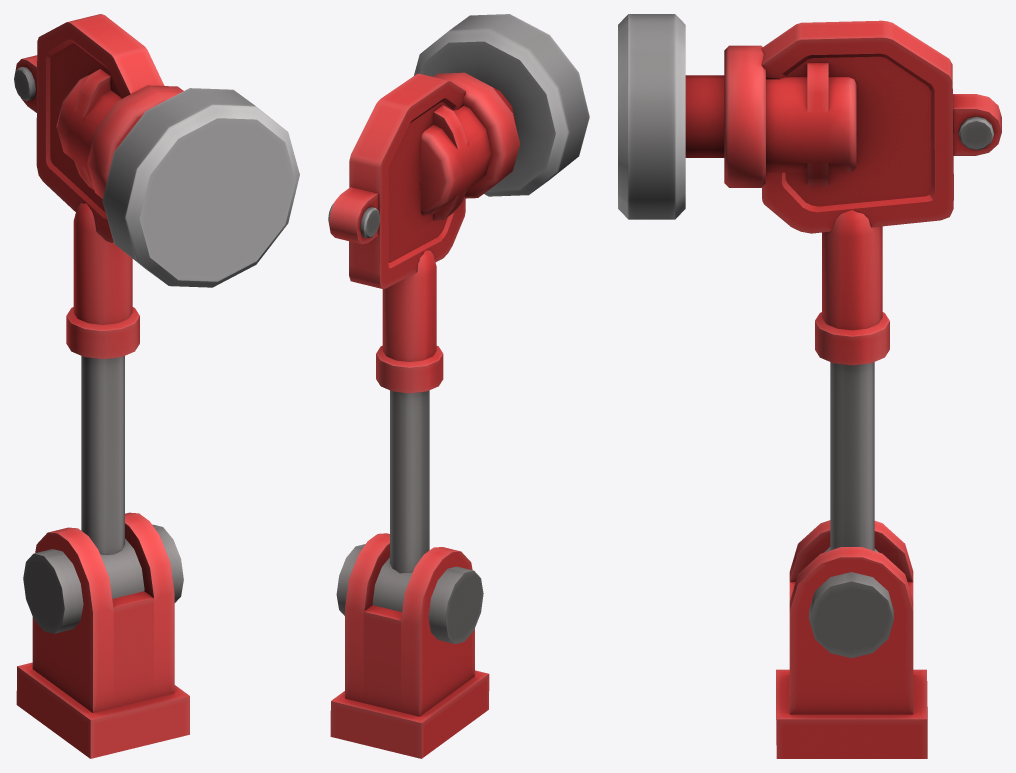
File: hammer_striker.fbx
3 views of the same model, side by side, from view 1: azimuth 30°, elevation 25°; view 2: azimuth 150°, elevation 25°; view 3: azimuth 270°, elevation 25° (orthographic). The views are drawn at different scales.
Parts seen in each view (by area): view 1: Cylinder.018, Cylinder.019; view 2: Cylinder.018, Cylinder.019; view 3: Cylinder.018, Cylinder.019.
Part boxes in pixels (x1,y1,x2,y2): Cylinder.018: (14, 14, 299, 633); Cylinder.019: (16, 512, 189, 758); Cylinder.018: (328, 14, 589, 643); Cylinder.019: (330, 533, 489, 758); Cylinder.018: (618, 14, 1001, 658); Cylinder.019: (776, 520, 927, 758).
Size of the model in its own units: 120 by 456 by 223.
